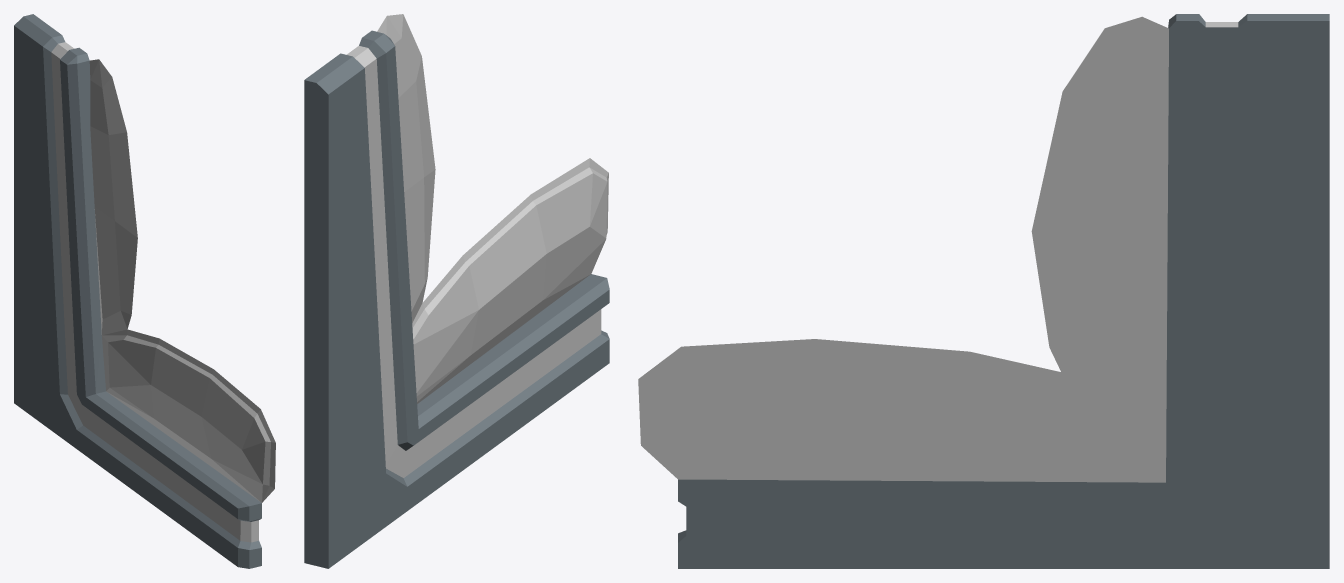
File: SM_Prop_Sofa_02_End_01.fbx
3 views of the same model, side by side, from view 1: azimuth 30°, elevation 25°; view 2: azimuth 150°, elevation 25°; view 3: azimuth 270°, elevation 25° (orthographic). The views are drawn at different scales.
Parts seen in each view (by area): view 1: SM_Prop_Sofa_02_End_01; view 2: SM_Prop_Sofa_02_End_01; view 3: SM_Prop_Sofa_02_End_01.
Part boxes in pixels (x1,y1,x2,y2): SM_Prop_Sofa_02_End_01: [14, 14, 275, 568]; SM_Prop_Sofa_02_End_01: [304, 14, 609, 568]; SM_Prop_Sofa_02_End_01: [638, 14, 1329, 568].
Bounding box in the file's own units: 5.62 × 108 × 122.
